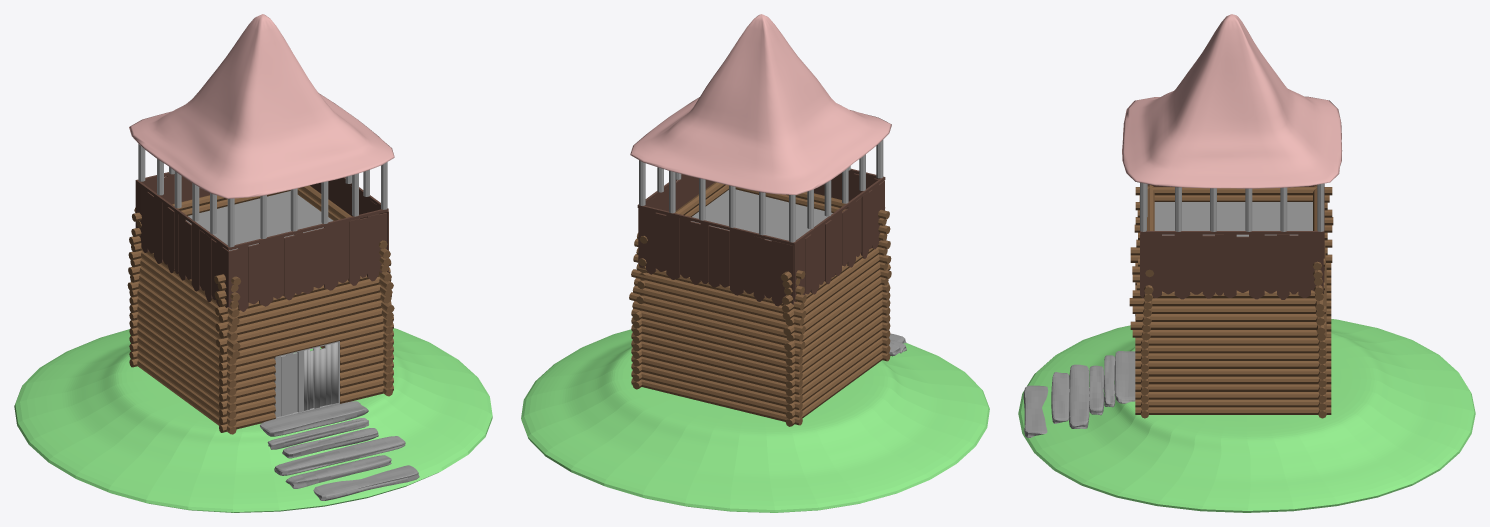
The model's file is Tower1.fbx.
3 views of the same model, side by side, from view 1: azimuth 30°, elevation 25°; view 2: azimuth 150°, elevation 25°; view 3: azimuth 270°, elevation 25° (orthographic). The views are drawn at different scales.
Parts seen in each view (by area): view 1: Tower1; view 2: Tower1; view 3: Tower1.
Boxes of the visible parts, x1,y1,x2,y2 form: Tower1: (14,14,492,512); Tower1: (521,14,989,512); Tower1: (1018,14,1475,512).
Size of the model in its own units: 13.52 by 13.02 by 13.15.
